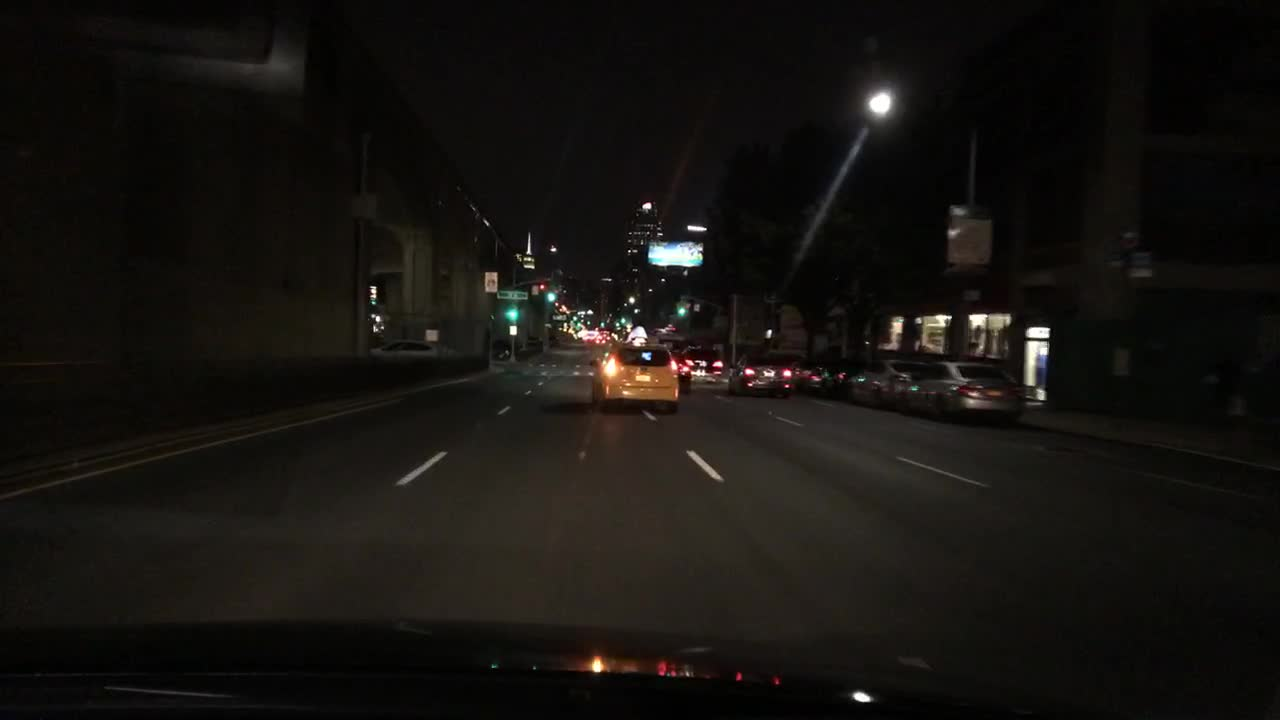car: (899, 357, 1027, 429), (587, 325, 681, 416), (845, 357, 922, 411), (727, 347, 794, 401), (370, 338, 449, 361), (819, 355, 853, 402), (682, 346, 724, 379), (793, 356, 821, 394), (669, 349, 692, 393), (492, 338, 523, 360), (526, 336, 545, 353), (582, 329, 598, 342), (594, 333, 611, 345), (548, 333, 558, 347), (575, 328, 587, 339), (565, 325, 575, 336)
traffic light: (506, 306, 518, 320), (678, 304, 686, 316), (547, 292, 555, 303), (620, 316, 626, 325), (538, 282, 544, 291), (572, 314, 576, 323)
traffic sign: (951, 215, 988, 262), (1126, 251, 1154, 279), (1118, 224, 1142, 250), (1100, 252, 1126, 267), (495, 290, 528, 300), (483, 271, 497, 292), (531, 283, 539, 295), (509, 326, 517, 336), (693, 303, 700, 313)
